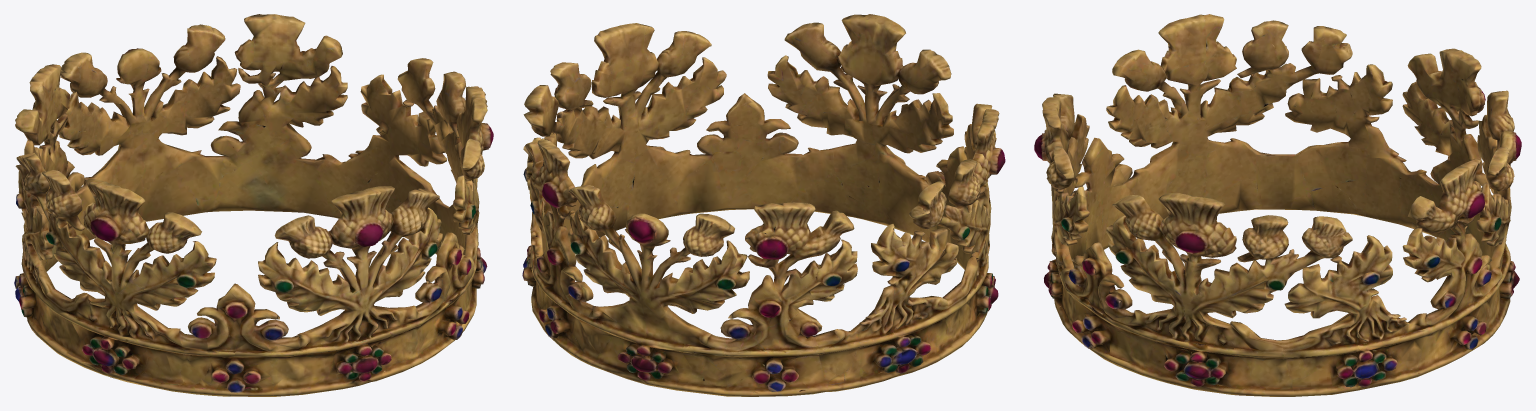
Rendered from a3D-corona.glb.
The picture shows the model from 3 angles, left to right: view 1: azimuth 30°, elevation 25°; view 2: azimuth 150°, elevation 25°; view 3: azimuth 270°, elevation 25°; orthographic projection.
Visible parts, largest first — view 1: geometry_0; view 2: geometry_0; view 3: geometry_0.
Part boxes in pixels (left/top/right/bottom): geometry_0: left=14, top=14, right=493, bottom=396; geometry_0: left=522, top=14, right=1005, bottom=396; geometry_0: left=1034, top=14, right=1521, bottom=396.
Size of the model in its own units: 1.87 by 0.846 by 1.9.
Materials: 1 (1 with a texture image).
